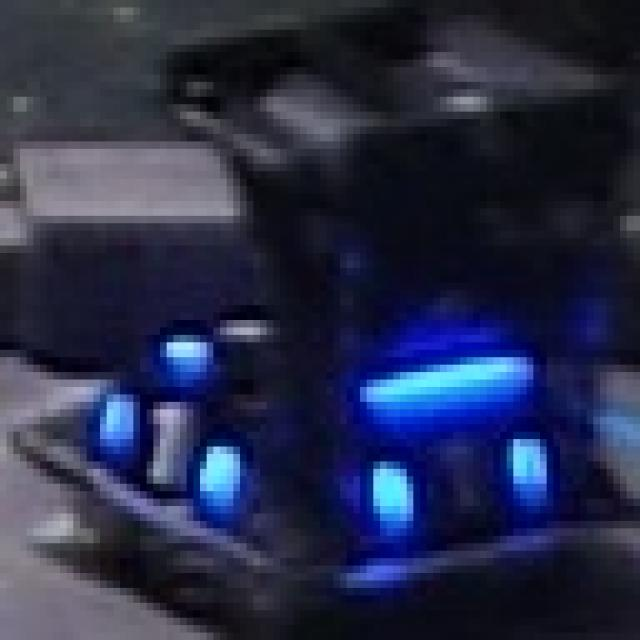B1: (73, 365, 247, 528)
